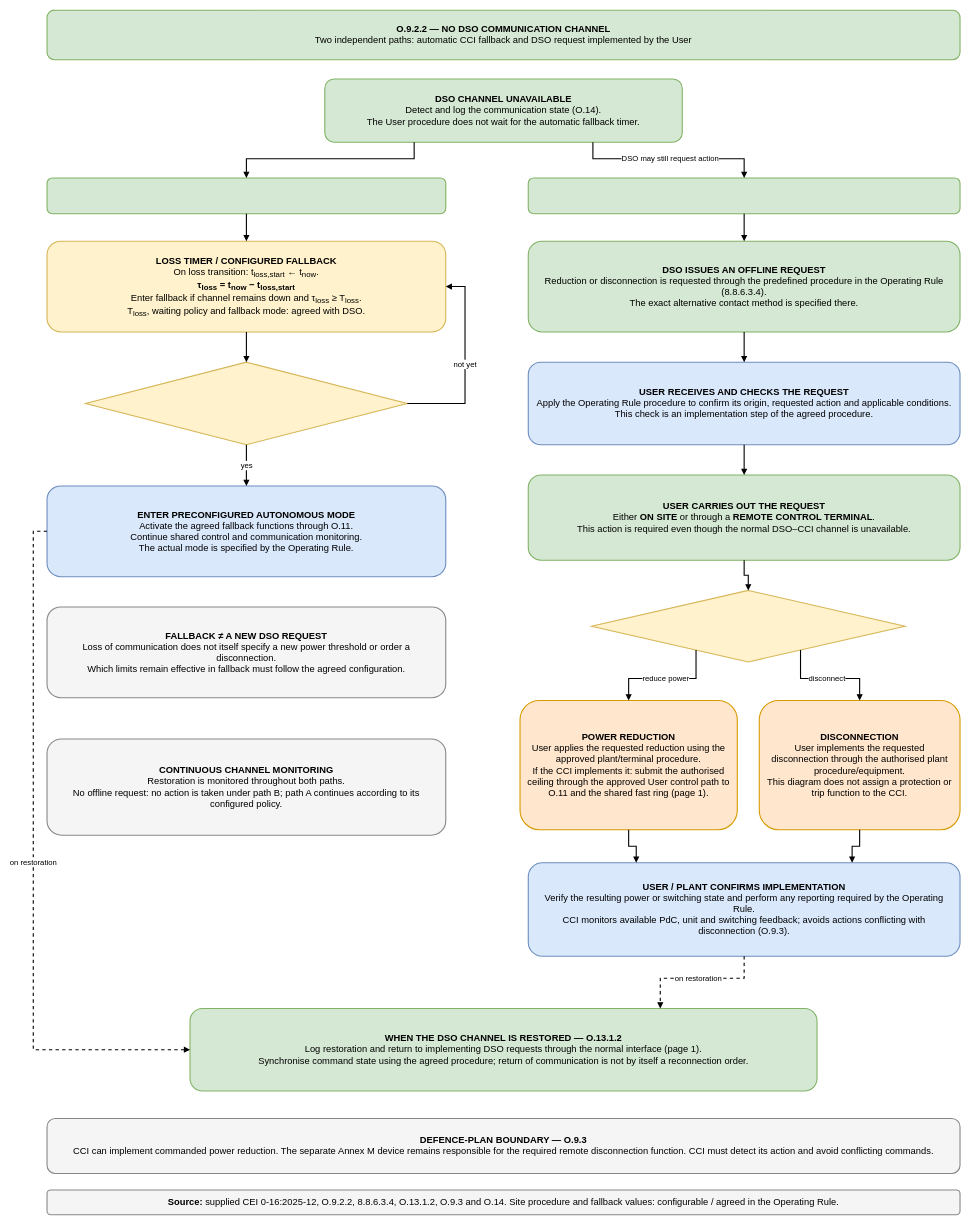
This 970x1224 diagram has some shape labels left out. Each missing label, with the centre of its shape:
A. AUTOMATIC CCI BEHAVIOUR — O.13.1.2: the point at 246,195
B. DSO REQUEST IMPLEMENTED BY USER — O.9.2.2: the point at 743,195
Channel still down AND τ loss ≥ T loss ?: the point at 246,403
Requested action?: the point at 748,626
